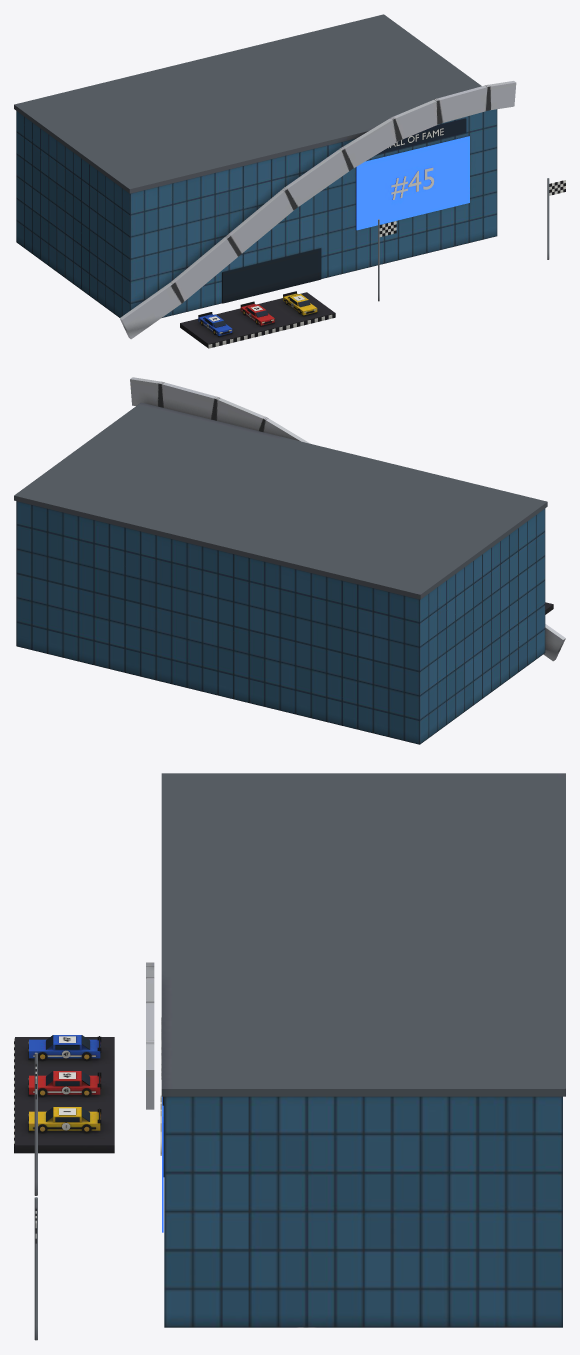
Rendered from salon_fama.glb.
3 views of the same model, one above another, from view 1: azimuth 30°, elevation 25°; view 2: azimuth 150°, elevation 25°; view 3: azimuth 270°, elevation 25° (orthographic). The views are drawn at different scales.
Parts seen in each view (by area): view 1: salon_fama; view 2: salon_fama; view 3: salon_fama.
Boxes of the visible parts, x1=… form: salon_fama: x1=14, y1=14, x2=565, y2=348; salon_fama: x1=14, y1=377, x2=565, y2=744; salon_fama: x1=14, y1=773, x2=565, y2=1340.
Size of the model in its own units: 58.42 by 22.4 by 38.76.
Materials: 1 (1 with a texture image).
